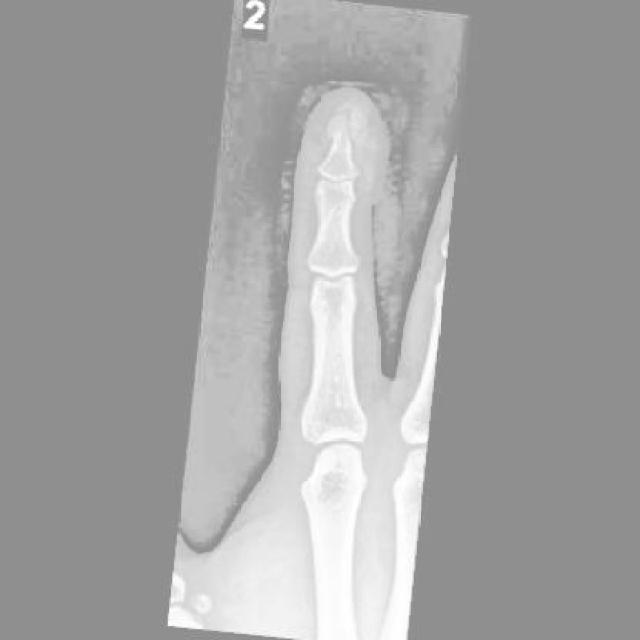Fracture: (325, 100, 368, 149)
